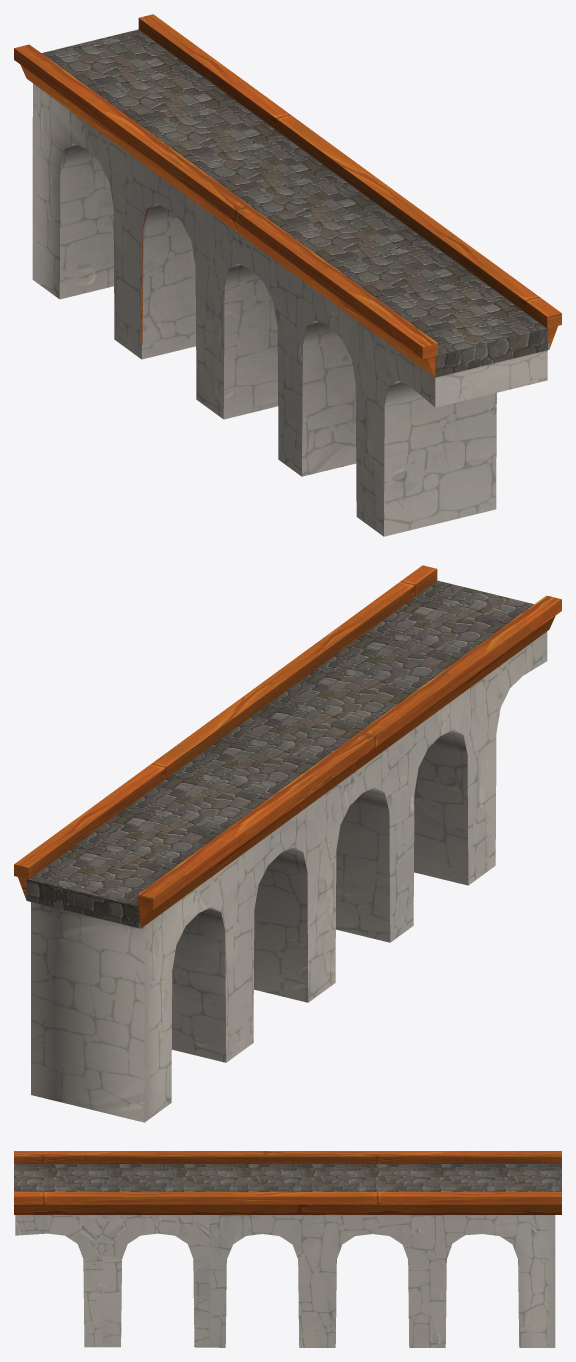
The model's file is Castillo_puente_low_edge fbx.fbx.
3 renders of one model, top to bottom at view 1: azimuth 30°, elevation 25°; view 2: azimuth 150°, elevation 25°; view 3: azimuth 270°, elevation 25°, orthographic. The views are drawn at different scales.
Parts seen in each view (by area): view 1: Obj_Puente_castillo; view 2: Obj_Puente_castillo; view 3: Obj_Puente_castillo.
Boxes of the visible parts, x1=… form: Obj_Puente_castillo: x1=14, y1=14, x2=561, y2=536; Obj_Puente_castillo: x1=14, y1=565, x2=561, y2=1122; Obj_Puente_castillo: x1=14, y1=1151, x2=561, y2=1347.
Bounding box in the file's own units: 590 × 935 × 2995.
